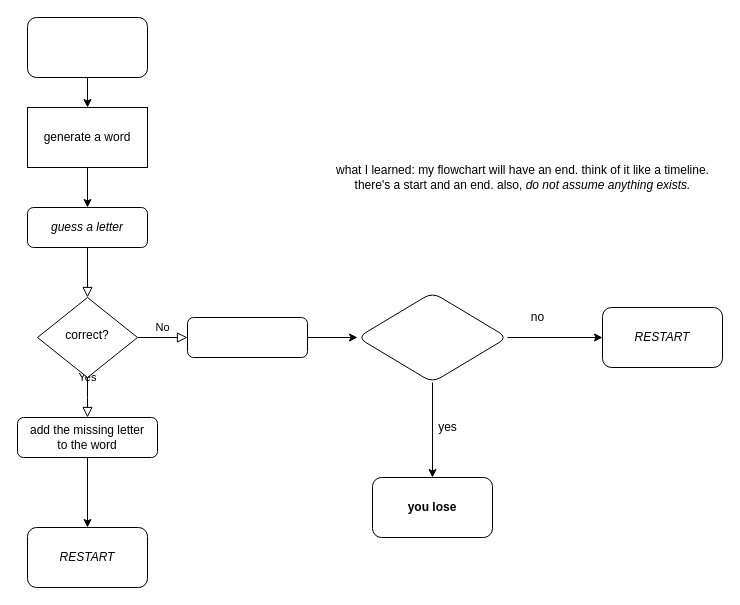
This 740x605 diagram has some shape labels left out. Here are the shapes that lost their labels. From the top down, the box of each, then its label:
(26, 16, 148, 78): START
(186, 316, 308, 358): strikes += 1
(356, 292, 508, 382): strikes == len(word)?
